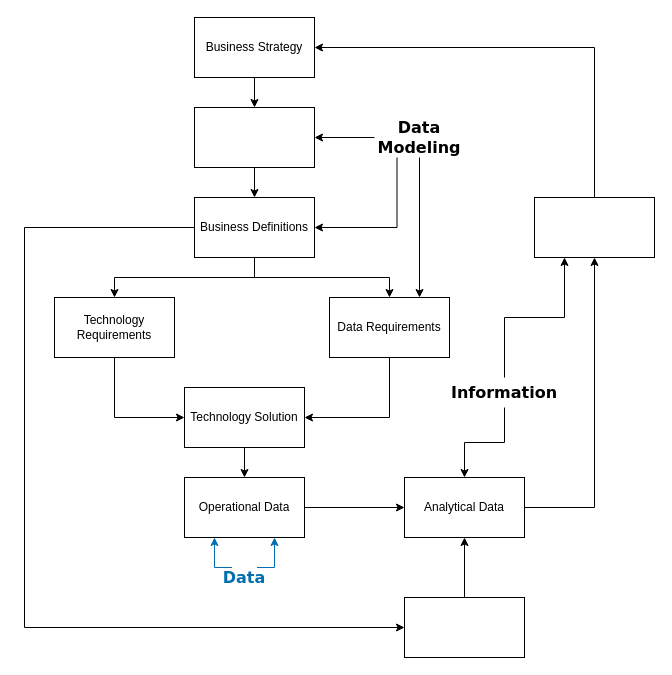
Image size: 672x675. Some labels were removed from this diagram. Here are the shapes that lost their labels. From the top down, the centre of each, then its label:
[254,137]: Business Process
[594,227]: Learnings
[464,627]: Metrics/KPIs
